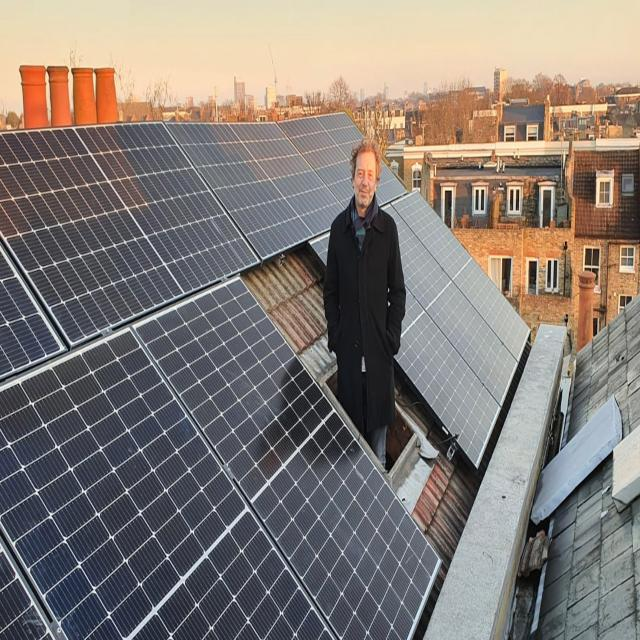Clean: (0, 105, 438, 640), (380, 172, 527, 468)
